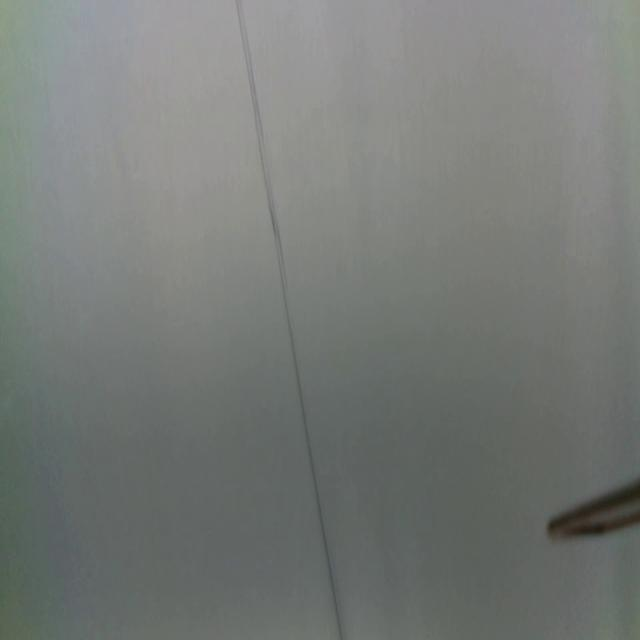crease: (235, 0, 343, 639)
